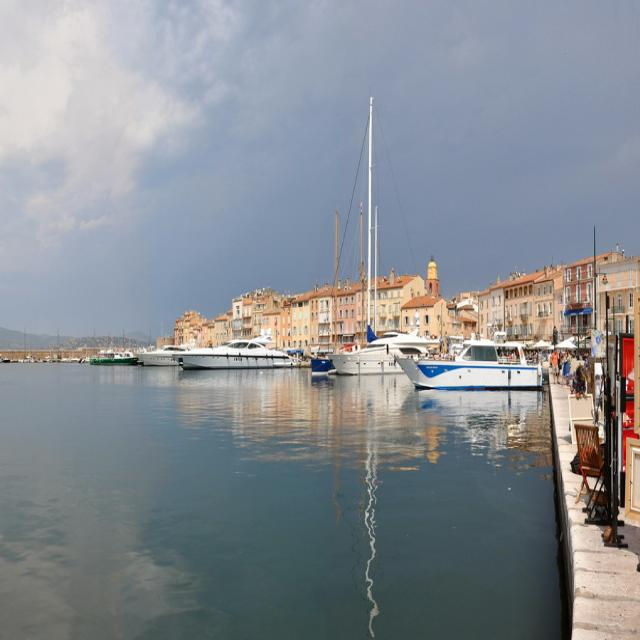fishing boat: (401, 322, 534, 395), (176, 304, 284, 361), (329, 314, 416, 371)
